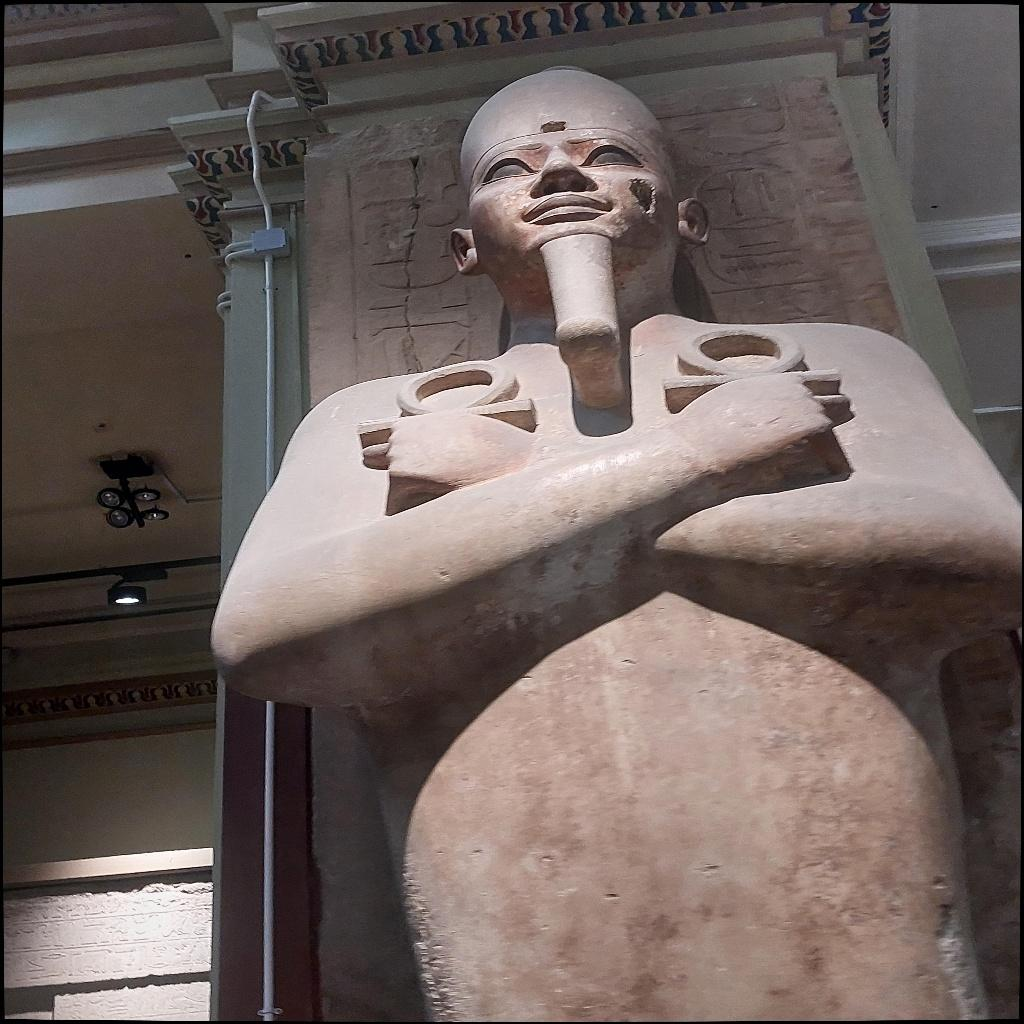Colossus of Senuseret I: (202, 62, 1014, 1016)
